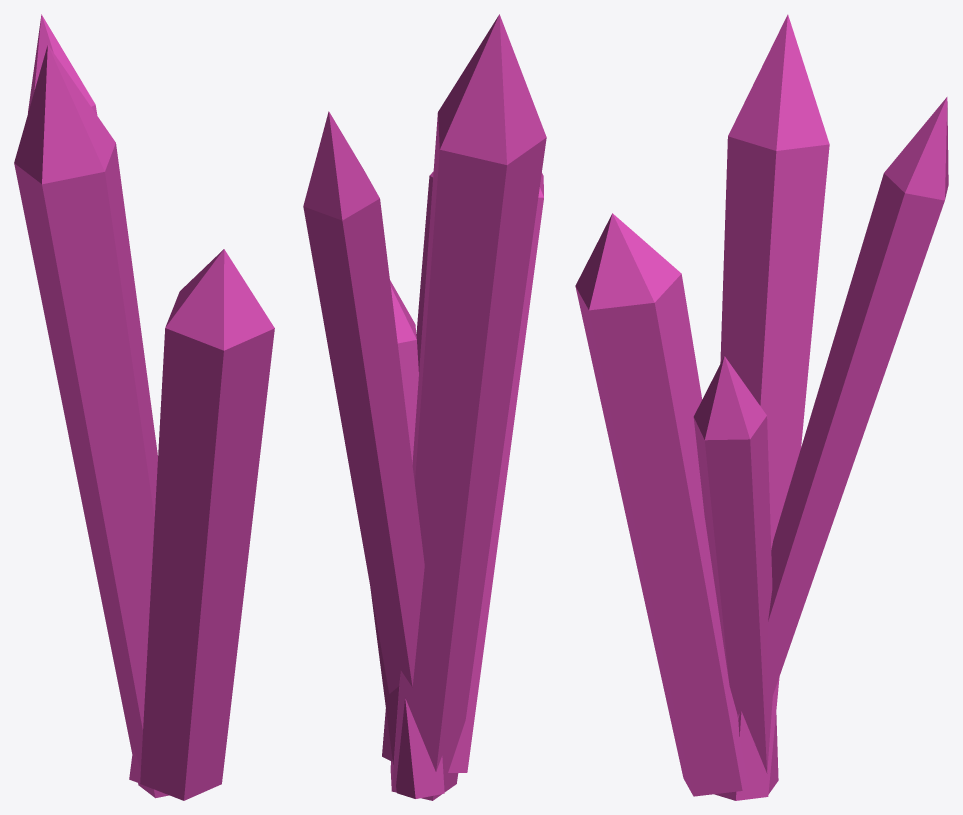
The model's file is small_crystals_7_2.fbx.
3 renders of one model, left to right at view 1: azimuth 30°, elevation 25°; view 2: azimuth 150°, elevation 25°; view 3: azimuth 270°, elevation 25°, orthographic. The views are drawn at different scales.
Parts seen in each view (by area): view 1: small crystals.019; view 2: small crystals.019; view 3: small crystals.019.
Part boxes in pixels (left/top/right/bottom): small crystals.019: left=14, top=14, right=274, bottom=800; small crystals.019: left=303, top=14, right=546, bottom=800; small crystals.019: left=575, top=14, right=948, bottom=800.
Size of the model in its own units: 92.63 by 347 by 160.
